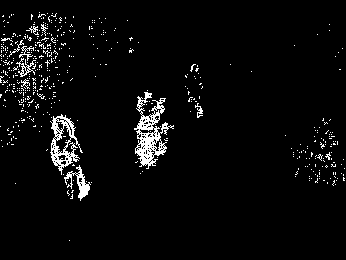person: (50, 117, 92, 198), (184, 61, 208, 119)
